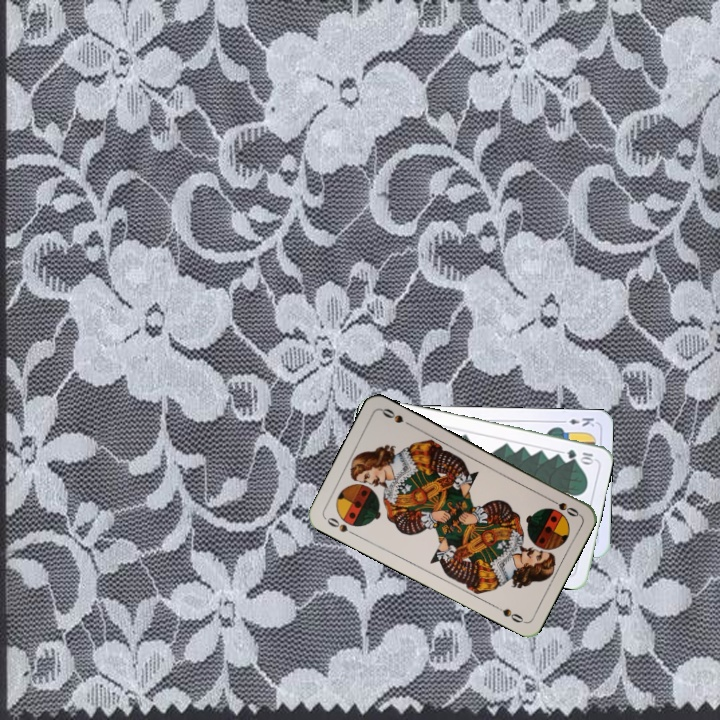EK: (556, 413, 597, 429)
G10: (563, 445, 597, 465)
SO: (544, 494, 582, 520), (321, 513, 359, 538)
